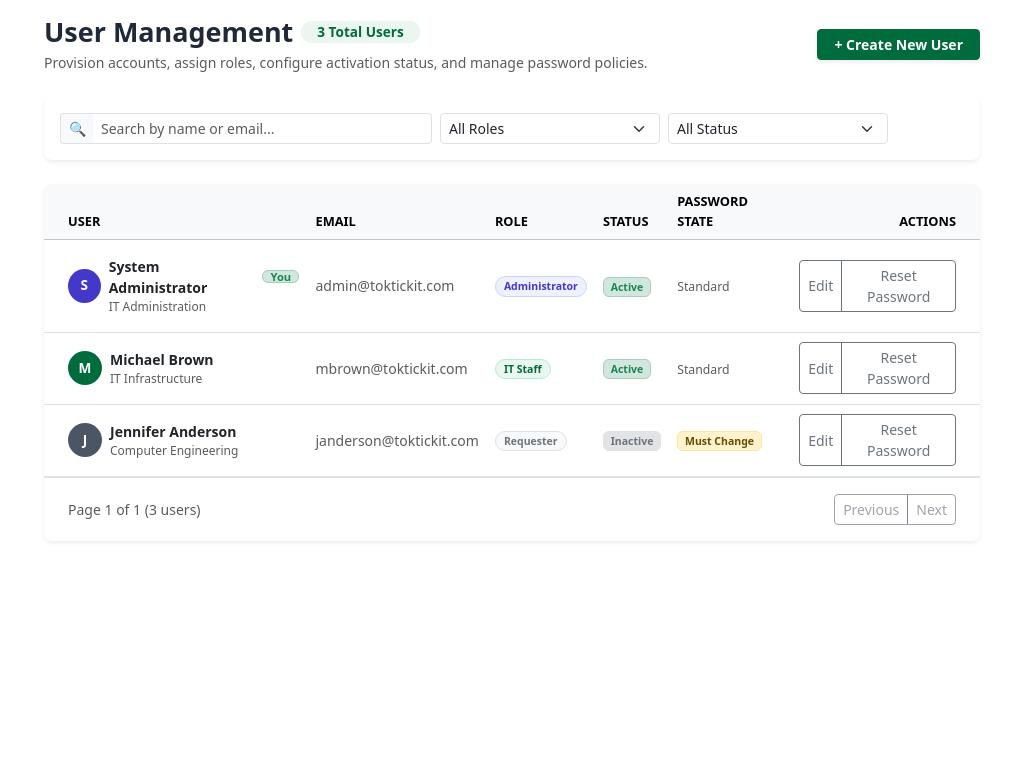
it: Lab 3 Issue 6: UserManagement Component (UI-04, FR-13, FR-14, FR-15) › opens Create User modal, validates, and creates a new user account (FR-14, AC-09)
expect the heading "User Management" is shown: met, box [44, 16, 293, 48]
Note: Open Create Modal
Click the button "+ Create New User": (899, 45) [818, 29, 980, 60]
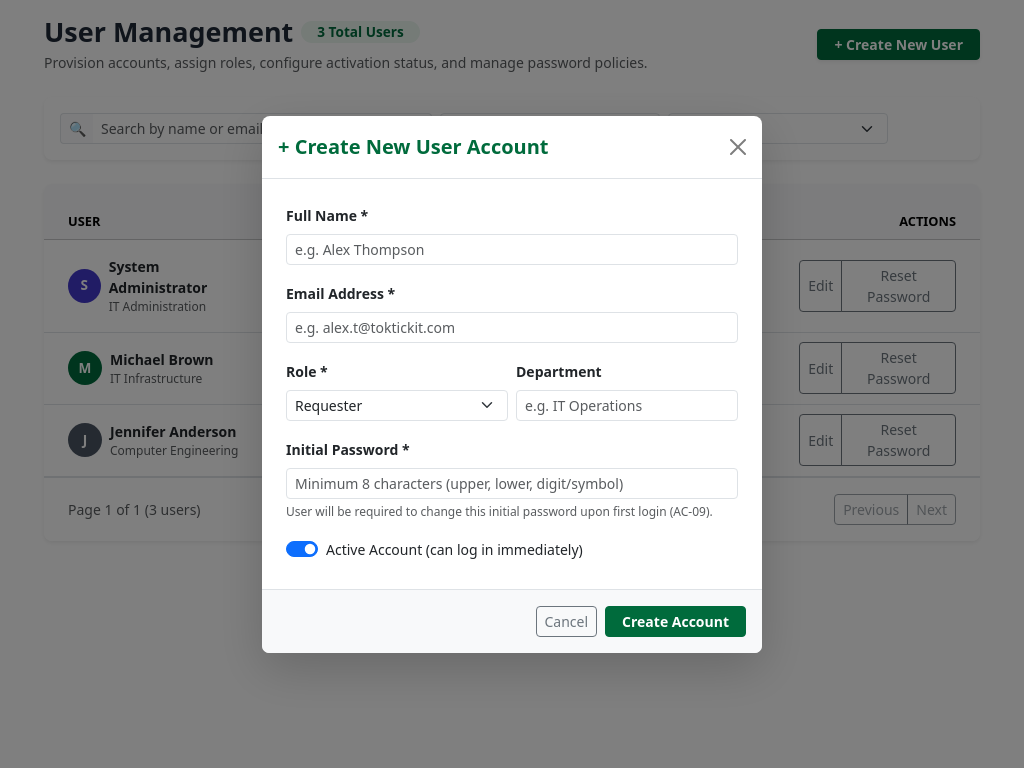
expect the heading "+ Create New User Account" is shown: met, box [278, 132, 548, 162]
Note: Fill form
In the field with id "create-user-fullname": (512, 249) [286, 234, 738, 264], type "Alex Thompson"
In the field with id "create-user-email": (512, 327) [286, 312, 738, 342], type "alex.t@toktickit.com"
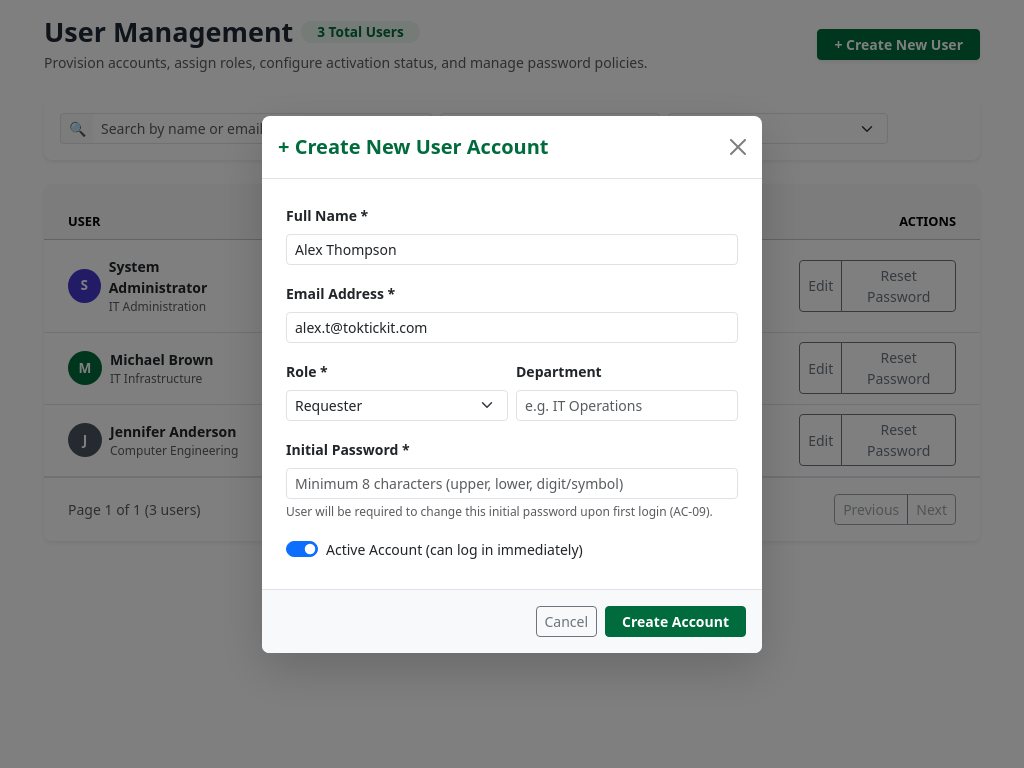
Select "IT Staff" in the dropdown with id "create-user-role": (397, 405) [286, 390, 508, 420]
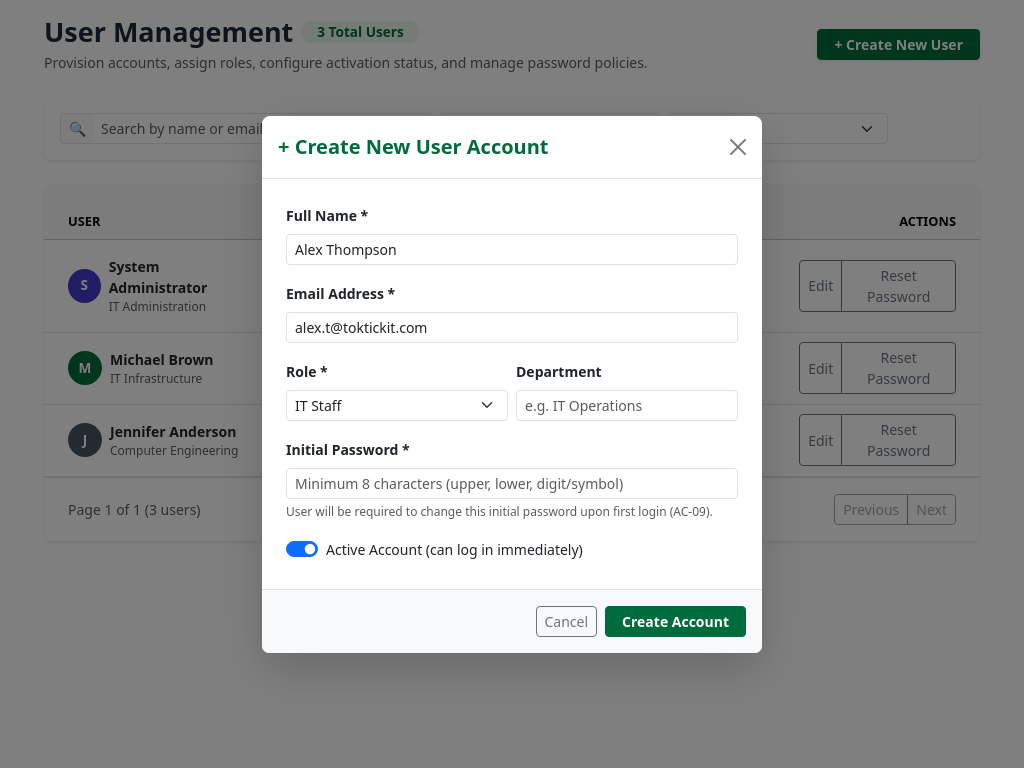
In the field with id "create-user-department": (627, 405) [516, 390, 738, 420], type "Operations"
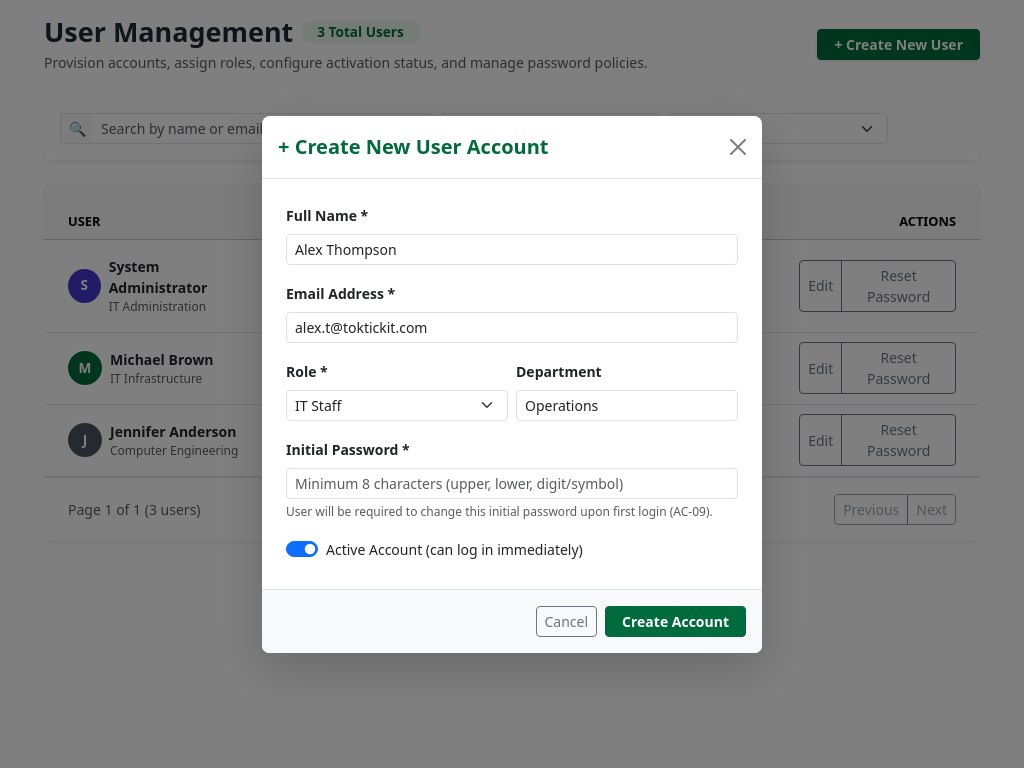
In the password field with id "create-user-password": (512, 483) [286, 468, 738, 498], type "InitialPassword123!"
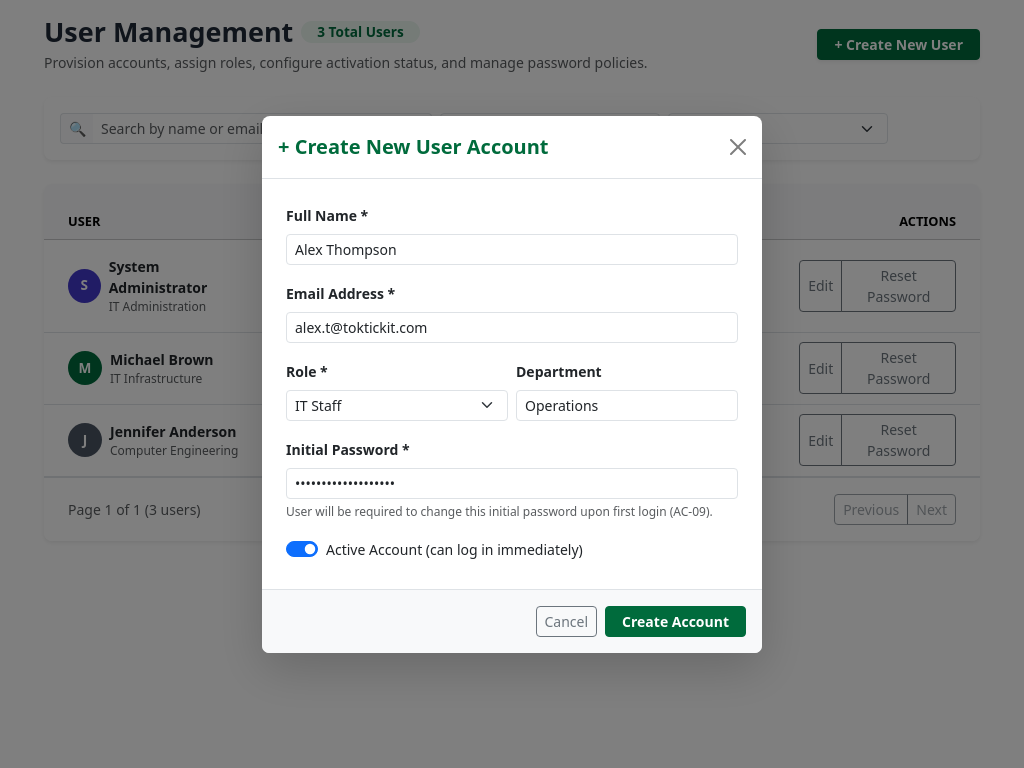
Click the button "Create Account": (676, 621) [605, 606, 746, 636]
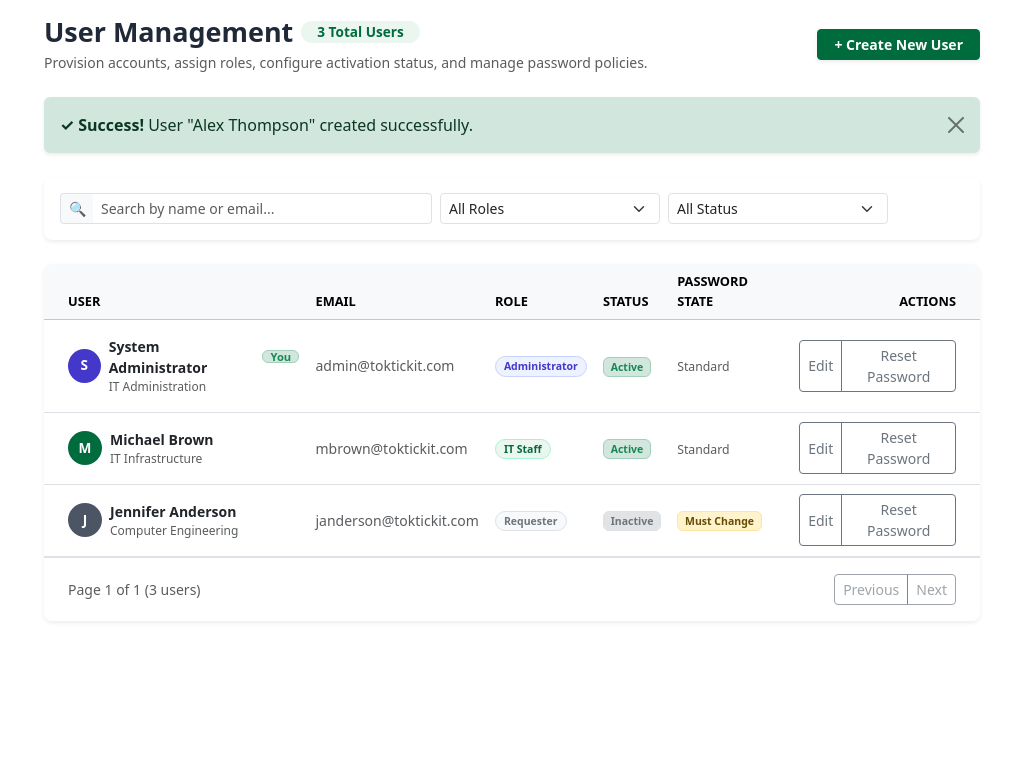
expect the text "✓ Success! User \"Alex Thompson\" created successfully." is shown: met, box [44, 97, 980, 153]
